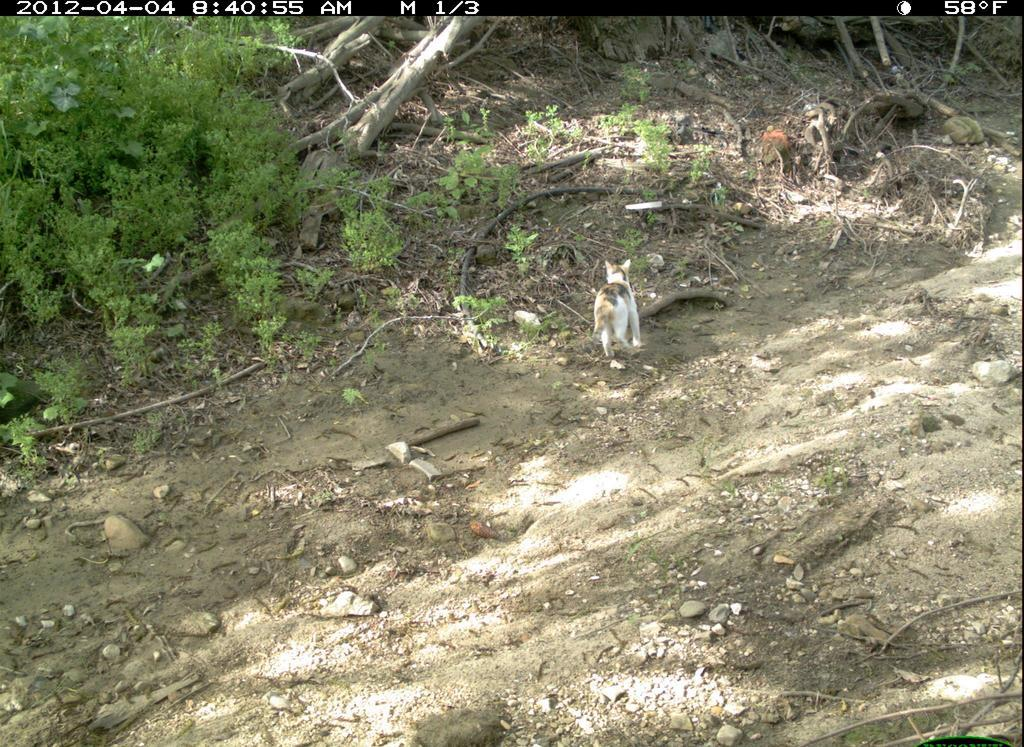cat: (584, 241, 647, 370)
